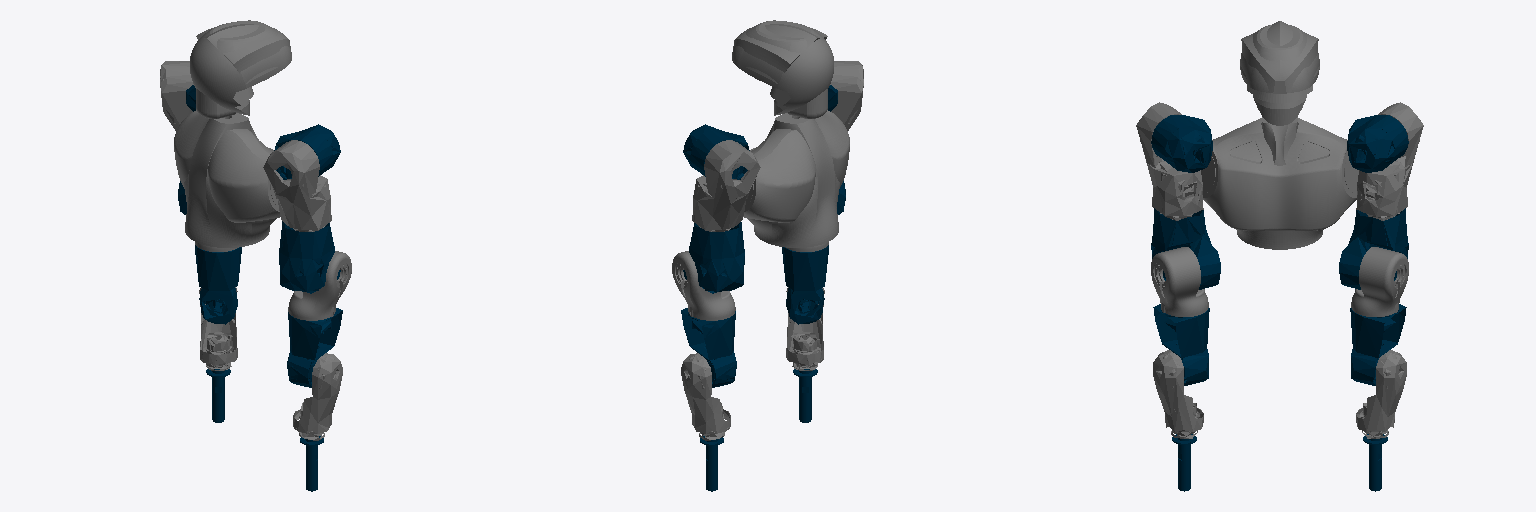
--- Render facts (derived) ---
3 views of the same robot in one strip: view 1: azimuth 30°, elevation 25°; view 2: azimuth 150°, elevation 25°; view 3: azimuth 270°, elevation 25° (orthographic).
Robot: centauro — 17 links, 16 joints (15 revolute, 1 fixed); root link world; default pose: every joint at zero.
Visible links, largest first — view 1: torso_2, arm2_2, arm2_3, arm1_5, arm2_5, arm2_6, arm2_4, arm1_6, arm1_2, arm2_1, arm1_7, arm2_7; view 2: torso_2, arm1_2, arm1_3, arm2_5, arm1_5, arm1_6, arm1_4, arm2_6, arm2_2, arm1_1, arm2_7, arm1_7; view 3: torso_2, arm1_2, arm2_2, arm1_4, arm2_4, arm1_1, arm2_1, arm1_3, arm2_3, arm1_5, arm2_5, arm1_6 (+3 smaller).
Boxes of the visible links, x1,y1,x2,y2 form: torso_2: (174,20,291,247); arm2_2: (263,140,331,231); arm2_3: (279,221,340,293); arm1_5: (195,245,241,324); arm2_5: (287,308,342,387); arm2_6: (293,353,342,440); arm2_4: (288,251,351,320); arm1_6: (199,287,237,370); arm1_2: (160,61,193,130); arm2_1: (274,124,340,179); arm1_7: (206,369,230,422); arm2_7: (300,436,323,491); torso_2: (732,20,849,247); arm1_2: (692,140,760,231); arm1_3: (683,222,744,293); arm2_5: (782,245,828,324); arm1_5: (681,308,736,387); arm1_6: (681,353,730,440); arm1_4: (672,251,735,320); arm2_6: (786,287,824,370); arm2_2: (830,61,863,130); arm1_1: (683,124,749,179); arm2_7: (793,369,817,422); arm1_7: (700,436,723,491); torso_2: (1201,21,1358,249); arm1_2: (1356,102,1423,220); arm2_2: (1136,102,1203,220); arm1_4: (1351,247,1408,316); arm2_4: (1151,247,1208,316); arm1_1: (1347,115,1408,172); arm2_1: (1151,115,1212,172); arm1_3: (1339,208,1408,289); arm2_3: (1151,208,1220,289); arm1_5: (1350,304,1406,385); arm2_5: (1153,304,1209,385); arm1_6: (1356,350,1406,438).
Bounding box of the posed robot: 0.2803 × 0.6319 × 1.08 m (x, y, z).
15 mesh visuals loaded from 8 distinct referenced files (8 binary STL).

The robot description file, URDF, robot "centauro":
<?xml version="1.0" ?>
<!-- =================================================================================== -->
<!-- |    This document was autogenerated by xacro from centauro.urdf.xacro            | -->
<!-- |    EDITING THIS FILE BY HAND IS NOT RECOMMENDED                                 | -->
<!-- =================================================================================== -->
<robot name="centauro" xmlns:xacro="http://www.ros.org/wiki/xacro">
  <!-- config -->
  <!--
<xacro:property name="ARMS" value="true"/>
<xacro:property name="TORSO" value="true" />
<xacro:property name="ARM_ACTUATORS" value="true"/> 
<xacro:property name="LEGS" value="true"/>
<xacro:property name="LEG_ACTUATORS" value="true"/>

<xacro:property name="TORSO_ACTUATORS" value="true"/>
<xacro:property name="WHEELS" value="true"/>
<xacro:property name="WHEELS_ACTUATORS" value="true"/>-->
  <!-- /config -->
  <!-- constants -->
  <!-- /constants -->
  <!-- other files -->
  <gazebo>
    <plugin filename="libgazebo_ros_control.so" name="gazebo_ros_control">
      <robotNamespace>/centauro</robotNamespace>
      <robotSimType>gazebo_ros_control/DefaultRobotHWSim</robotSimType>
    </plugin>
  </gazebo>
  <gazebo reference="knee_1">
    <sensor name="foot_contact_sensor_1" type="contact">
      <always_on>true</always_on>
      <update_rate>1000.0</update_rate>
      <contact>
        <collision>knee_1_collision_1</collision>
      </contact>
      <plugin filename="libgazebo_ros_bumper.so" name="bumper_1">
        <bumperTopicName>raw_contacts_foot_1</bumperTopicName>
        <frameName>knee_1</frameName>
      </plugin>
    </sensor>
  </gazebo>
  <gazebo reference="knee_2">
    <sensor name="foot_contact_sensor_2" type="contact">
      <always_on>true</always_on>
      <update_rate>1000.0</update_rate>
      <contact>
        <collision>knee_2_collision_1</collision>
      </contact>
      <plugin filename="libgazebo_ros_bumper.so" name="bumper_2">
        <bumperTopicName>raw_contacts_foot_2</bumperTopicName>
        <frameName>knee_2</frameName>
      </plugin>
    </sensor>
  </gazebo>
  <gazebo reference="knee_3">
    <sensor name="foot_contact_sensor_3" type="contact">
      <always_on>true</always_on>
      <update_rate>1000.0</update_rate>
      <contact>
        <collision>knee_3_collision_1</collision>
      </contact>
      <plugin filename="libgazebo_ros_bumper.so" name="bumper_3">
        <bumperTopicName>raw_contacts_foot_3</bumperTopicName>
        <frameName>knee_3</frameName>
      </plugin>
    </sensor>
  </gazebo>
  <gazebo reference="knee_4">
    <sensor name="foot_contact_sensor_4" type="contact">
      <always_on>true</always_on>
      <update_rate>1000.0</update_rate>
      <contact>
        <collision>knee_4_collision_1</collision>
      </contact>
      <plugin filename="libgazebo_ros_bumper.so" name="bumper_4">
        <bumperTopicName>raw_contacts_foot_4</bumperTopicName>
        <frameName>knee_4</frameName>
      </plugin>
    </sensor>
  </gazebo>
  <!-- The ft_sensor plugin -->
  <!--<gazebo>
    <plugin name="ft_sensor" filename="libgazebo_ros_ft_sensor.so">
        <updateRate>100.0</updateRate>
        <topicName>ft_sensor_1</topicName>
        <jointName>foot_fixed_joint_1</jointName>
    </plugin>
</gazebo>-->
  <!-- The ft_sensor plugin -->
  <!--<gazebo>
    <plugin name="ft_sensor" filename="libgazebo_ros_ft_sensor.so">
        <updateRate>100.0</updateRate>
        <topicName>ft_sensor_2</topicName>
        <jointName>foot_fixed_joint_2</jointName>
    </plugin>
</gazebo>-->
  <!-- The ft_sensor plugin -->
  <!--<gazebo>
    <plugin name="ft_sensor" filename="libgazebo_ros_ft_sensor.so">
        <updateRate>100.0</updateRate>
        <topicName>ft_sensor_3</topicName>
        <jointName>foot_fixed_joint_3</jointName>
    </plugin>
</gazebo>-->
  <!-- The ft_sensor plugin -->
  <!--<gazebo>
    <plugin name="ft_sensor" filename="libgazebo_ros_ft_sensor.so">
        <updateRate>100.0</updateRate>
        <topicName>ft_sensor_4</topicName>
        <jointName>foot_fixed_joint_4</jointName>
    </plugin>
</gazebo>-->
  <gazebo reference="base_link">
    <material>Gazebo/Red</material>
  </gazebo>
  <gazebo reference="pelvis">
    <material>Gazebo/Blue</material>
    <mu1>1</mu1>
    <mu2>1</mu2>
  </gazebo>
  <gazebo reference="torso_1">
    <mu1>1</mu1>
    <mu2>1</mu2>
    <material>Gazebo/Grey</material>
  </gazebo>
  <gazebo reference="torso_2">
    <material>Gazebo/Blue</material>
    <mu1>1</mu1>
    <mu2>1</mu2>
  </gazebo>
  <gazebo reference="hip1_1">
    <material>Gazebo/Grey</material>
    <mu1>1</mu1>
    <mu2>1</mu2>
  </gazebo>
  <gazebo reference="hip1_2">
    <material>Gazebo/Grey</material>
    <mu1>1</mu1>
    <mu2>1</mu2>
  </gazebo>
  <gazebo reference="hip1_3">
    <material>Gazebo/Grey</material>
    <mu1>1</mu1>
    <mu2>1</mu2>
  </gazebo>
  <gazebo reference="hip1_4">
    <material>Gazebo/Grey</material>
    <mu1>1</mu1>
    <mu2>1</mu2>
  </gazebo>
  <gazebo reference="hip2_1">
    <material>Gazebo/Blue</material>
    <mu1>1</mu1>
    <mu2>1</mu2>
  </gazebo>
  <gazebo reference="hip2_2">
    <material>Gazebo/Blue</material>
    <mu1>1</mu1>
    <mu2>1</mu2>
  </gazebo>
  <gazebo reference="hip2_3">
    <material>Gazebo/Blue</material>
    <mu1>1</mu1>
    <mu2>1</mu2>
  </gazebo>
  <gazebo reference="hip2_4">
    <material>Gazebo/Blue</material>
    <mu1>1</mu1>
    <mu2>1</mu2>
  </gazebo>
  <gazebo reference="knee_1">
    <material>Gazebo/Grey</material>
    <mu1>10</mu1>
    <mu2>10</mu2>
  </gazebo>
  <gazebo reference="knee_2">
    <material>Gazebo/Grey</material>
    <mu1>10</mu1>
    <mu2>10</mu2>
  </gazebo>
  <gazebo reference="knee_3">
    <material>Gazebo/Grey</material>
    <mu1>10</mu1>
    <mu2>10</mu2>
  </gazebo>
  <gazebo reference="knee_4">
    <material>Gazebo/Grey</material>
    <mu1>10</mu1>
    <mu2>10</mu2>
  </gazebo>
  <gazebo reference="arm1_1">
    <material>Gazebo/Blue</material>
    <mu1>0</mu1>
    <mu2>0</mu2>
  </gazebo>
  <gazebo reference="arm2_1">
    <material>Gazebo/Blue</material>
    <mu1>0</mu1>
    <mu2>0</mu2>
  </gazebo>
  <gazebo reference="arm1_2">
    <material>Gazebo/Grey</material>
    <mu1>0</mu1>
    <mu2>0</mu2>
  </gazebo>
  <gazebo reference="arm2_2">
    <material>Gazebo/Grey</material>
    <mu1>0</mu1>
    <mu2>0</mu2>
  </gazebo>
  <gazebo reference="arm1_3">
    <material>Gazebo/Blue</material>
    <mu1>0</mu1>
    <mu2>0</mu2>
  </gazebo>
  <gazebo reference="arm2_3">
    <material>Gazebo/Blue</material>
    <mu1>0</mu1>
    <mu2>0</mu2>
  </gazebo>
  <gazebo reference="arm1_4">
    <material>Gazebo/Grey</material>
    <mu1>0</mu1>
    <mu2>0</mu2>
  </gazebo>
  <gazebo reference="arm2_4">
    <material>Gazebo/Grey</material>
    <mu1>0</mu1>
    <mu2>0</mu2>
  </gazebo>
  <gazebo reference="arm1_5">
    <material>Gazebo/Blue</material>
    <mu1>0</mu1>
    <mu2>0</mu2>
  </gazebo>
  <gazebo reference="arm2_5">
    <material>Gazebo/Blue</material>
    <mu1>0</mu1>
    <mu2>0</mu2>
  </gazebo>
  <gazebo reference="arm1_6">
    <material>Gazebo/Grey</material>
    <mu1>0</mu1>
    <mu2>0</mu2>
  </gazebo>
  <gazebo reference="arm2_6">
    <material>Gazebo/Grey</material>
    <mu1>0</mu1>
    <mu2>0</mu2>
  </gazebo>
  <gazebo reference="arm1_7">
    <material>Gazebo/Blue</material>
    <mu1>0</mu1>
    <mu2>0</mu2>
  </gazebo>
  <gazebo reference="arm2_7">
    <material>Gazebo/Blue</material>
    <mu1>0</mu1>
    <mu2>0</mu2>
  </gazebo>
  <gazebo reference="wheel_hip_1">
    <material>Gazebo/Black</material>
  </gazebo>
  <gazebo reference="wheel_hip_2">
    <material>Gazebo/Black</material>
  </gazebo>
  <gazebo reference="wheel_hip_3">
    <material>Gazebo/Black</material>
  </gazebo>
  <gazebo reference="wheel_hip_4">
    <material>Gazebo/Black</material>
  </gazebo>
  <gazebo reference="wheel_knee_1">
    <material>Gazebo/Black</material>
  </gazebo>
  <gazebo reference="wheel_knee_2">
    <material>Gazebo/Black</material>
  </gazebo>
  <gazebo reference="wheel_knee_3">
    <material>Gazebo/Black</material>
  </gazebo>
  <gazebo reference="wheel_knee_4">
    <material>Gazebo/Black</material>
  </gazebo>
  <!-- General Data -->
  <!-- Center of Mass -->
  <!-- Inertia -->
  <!-- Mass -->
  <!-- Center of Mass -->
  <!-- Inertia -->
  <!-- Mass -->
  <!-- Center of Mass -->
  <!-- Inertia -->
  <!-- Mass -->
  <!-- Center of Mass -->
  <!-- Inertia -->
  <!-- Mass -->
  <!-- Center of Mass -->
  <!-- Inertia -->
  <!-- Mass -->
  <!-- Center of Mass -->
  <!-- Inertia -->
  <!-- Mass -->
  <!-- Center of Mass -->
  <!-- Inertia -->
  <!-- Mass -->
  <!-- Center of Mass -->
  <!-- Inertia -->
  <!-- Mass -->
  <!-- Center of Mass -->
  <!-- Inertia -->
  <!-- Mass -->
  <!-- Center of Mass -->
  <!-- Inertia -->
  <!-- Mass -->
  <!-- Center of Mass -->
  <!-- Inertia -->
  <!-- Mass -->
  <!-- Center of Mass -->
  <!-- Inertia -->
  <!-- Mass -->
  <!-- Center of Mass -->
  <!-- Inertia -->
  <!-- Mass -->
  <material name="grey">
    <color rgba="0.5 0.5 0.5 1"/>
  </material>
  <material name="dark_grey">
    <color rgba="0.3 0.3 0.3 1"/>
  </material>
  <material name="blue">
    <color rgba="0.0 0.2 0.3 1"/>
  </material>
  <material name="red">
    <color rgba="0.5 0.1 0.2 1"/>
  </material>
  <material name="black">
    <color rgba="0.0 0.0 0.0 1"/>
  </material>
  <!-- macro arms -->
  <!-- /macro arms -->
  <!-- /other files -->
  <!-- reference -->
  <link name="world"/>
  <link name="pelvis">
    <inertial>
      <origin xyz="-0.0704 0.0 -0.0416"/>
      <!-- TODO -->
      <mass value="25.0"/>
      <!-- org: 25 -->
      <inertia ixx="0.242311" ixy="0.0" ixz="-0.233584" iyy="1.338707" iyz="0.0" izz="1.369479"/>
      <!-- TODO -->
    </inertial>
    <!--	<collision>
		<origin xyz="0 0 0"/>
		<geometry>
			<box size="0.70 0.40 0.20"/>
		</geometry>
	</collision> -->
  </link>
  <!-- /reference  -->
  <joint name="reference" type="fixed">
    <origin xyz="0 0 0.85"/>
    <parent link="world"/>
    <child link="pelvis"/>
  </joint>
  <!-- torso -->
  <!-- torso links -->
  <link name="torso_2">
    <inertial>
      <origin xyz="0.0 0.0 0.183333"/>
      <mass value="3.0"/>
      <!-- mass  7: torso_1 (2) + torso_2 (5), head un_modelled -->
      <inertia ixx="0.094335" ixy="8.5e-05" ixz="-3.1e-05" iyy="0.029946" iyz="1.7e-05" izz="0.068486"/>
      <!-- <inertia ixx="0.01" ixy="0.01" ixz="0.01" iyy="0.01" iyz="0.01" izz="0.01"/> -->
    </inertial>
    <visual>
      <origin rpy="0.0 0.0 0.0" xyz="0.0 0 0.0"/>
      <geometry>
        <mesh filename="package://centauro/centauro_urdf/meshes/link1.stl" scale="0.001 0.001 0.001"/>
      </geometry>
      <material name="grey"/>
    </visual>
    <collision>
      <origin rpy="0.0 0.0 0.0" xyz="0.0 0 0.0"/>
      <geometry>
        <mesh filename="package://centauro/centauro_urdf/meshes/convex_hull/link1.stl" scale="0.001 0.001 0.001"/>
      </geometry>
      <material name="grey"/>
    </collision>
  </link>
  <!-- /torso links -->
  <!-- torso joints -->
  <joint name="torso_yaw" type="revolute">
    <parent link="pelvis"/>
    <child link="torso_2"/>
    <origin xyz="0.30 0 0"/>
    <axis xyz="0 0 1"/>
    <limit effort="350" lower="-2.618" upper="2.618" velocity="6.5"/>
    <!-- TODO -->
  </joint>
  <!-- /torso joints -->
  <!-- torso actuators -->
  <transmission name="t_torso_yaw">
    <type> transmission_interface/SimpleTransmission</type>
    <joint name="torso_yaw">
      <hardwareInterface>EffortJointInterface</hardwareInterface>
    </joint>
    <actuator name="motor_torso_yaw">
      <hardwareInterface>EffortJointInterface</hardwareInterface>
      <machanicalReduction>1</machanicalReduction>
    </actuator>
    <robotNamespace>/centauro</robotNamespace>
  </transmission>
  <!-- /torso actuators -->
  <!-- arms -->
  <!-- LINKS -->
  <!-- shoulder yaw-roll-->
  <link name="arm1_1">
    <inertial>
      <origin xyz="0.0 0.064706 0.0"/>
      <mass value="1.7"/>
      <!-- OK: 1.7 -->
      <inertia ixx="0.002332" ixy="0.0" ixz="0.0" iyy="0.001345" iyz="-0.0" izz="0.002332"/>
    </inertial>
    <visual>
      <origin rpy="0.0 0.0 0.0" xyz="0.0 0.0 0.0"/>
      <geometry>
        <mesh filename="package://centauro/centauro_urdf/meshes/link2.stl" scale="0.001 -0.001 0.001"/>
      </geometry>
      <material name="blue"/>
    </visual>
    <collision>
      <origin rpy="0.0 0.0 0.0" xyz="0.0 0.0 0.0"/>
      <geometry>
        <mesh filename="package://centauro/centauro_urdf/meshes/convex_hull/link2.stl" scale="0.001 -0.001 0.001"/>
      </geometry>
      <material name="blue"/>
    </collision>
  </link>
  <!-- shoulder yaw-roll-->
  <!-- shoulder roll-pitch-->
  <link name="arm1_2">
    <inertial>
      <origin xyz="0.0 0.0 -0.125"/>
      <mass value="2.0"/>
      <!-- OK: 2 -->
      <inertia ixx="0.005879" ixy="0.0" ixz="0.0" iyy="0.005879" iyz="0.0" izz="0.001525"/>
    </inertial>
    <visual>
      <origin rpy="0.0 0.0 0.0" xyz="0.0 0.0 0.0"/>
      <geometry>
        <mesh filename="package://centauro/centauro_urdf/meshes/link3.stl" scale="0.001 -0.001 0.001"/>
      </geometry>
      <material name="grey"/>
    </visual>
    <collision>
      <origin rpy="0.0 0.0 0.0" xyz="0.0 0.0 0.0"/>
      <geometry>
        <mesh filename="package://centauro/centauro_urdf/meshes/convex_hull/link3.stl" scale="0.001 -0.001 0.001"/>
      </geometry>
      <material name="grey"/>
    </collision>
  </link>
  <!-- shoulder roll-pitch-->
  <!-- shoulder-elbow -->
  <link name="arm1_3">
    <inertial>
      <origin xyz="0.0 0.0 -0.09375"/>
      <mass value="2.0"/>
      <!-- OK: 2 -->
      <inertia ixx="0.003989" ixy="0.0" ixz="0.0" iyy="0.003884" iyz="-0.0" izz="0.001629"/>
      <!-- TODO -->
    </inertial>
    <visual>
      <origin rpy="0.0 0.0 0.0" xyz="0.0 0.0 0.0"/>
      <geometry>
        <mesh filename="package://centauro/centauro_urdf/meshes/link4.stl" scale="0.001 -0.001 0.001"/>
      </geometry>
      <material name="blue"/>
    </visual>
    <collision>
      <origin rpy="0.0 0.0 0.0" xyz="0.0 0.0 0.0"/>
      <geometry>
        <mesh filename="package://centauro/centauro_urdf/meshes/convex_hull/link4.stl" scale="0.001 -0.001 0.001"/>
      </geometry>
      <material name="blue"/>
    </collision>
  </link>
  <!-- /shoulder-elbow -->
  <!-- elbow yaw-pitch -->
  <link name="arm1_4">
    <inertial>
      <origin xyz="0.0 0.0 -0.09"/>
      <mass value="1.3"/>
      <!-- OK: 1.3 -->
      <inertia ixx="0.002589" ixy="0.0" ixz="0.0" iyy="0.002589" iyz="0.0" izz="0.001105"/>
    </inertial>
    <visual>
      <origin rpy="0.0 0.0 0.0" xyz="0.0 0.0 0.0"/>
      <geometry>
        <mesh filename="package://centauro/centauro_urdf/meshes/link5.stl" scale="0.001 -0.001 0.001"/>
      </geometry>
      <material name="grey"/>
    </visual>
    <collision>
      <origin rpy="0.0 0.0 0.0" xyz="0.0 0.0 0.0"/>
      <geometry>
        <mesh filename="package://centauro/centauro_urdf/meshes/convex_hull/link5.stl" scale="0.001 -0.001 0.001"/>
      </geometry>
      <material name="grey"/>
    </collision>
  </link>
  <!-- /elbow yaw-pitch -->
  <!-- elbow-wrist -->
  <link name="arm1_5">
    <inertial>
      <origin xyz="0.0 0.0 -0.067857"/>
      <mass value="1.4"/>
      <!-- OK: 1.4 -->
      <inertia ixx="0.002073" ixy="0.0" ixz="0.0" iyy="0.001969" iyz="-0.0" izz="0.001269"/>
    </inertial>
    <visual>
      <origin rpy="0.0 0.0 0.0" xyz="0.0 0.0 0.0"/>
      <geometry>
        <mesh filename="package://centauro/centauro_urdf/meshes/link6.stl" scale="0.001 -0.001 0.001"/>
      </geometry>
      <material name="blue"/>
    </visual>
    <collision>
      <origin rpy="0.0 0.0 0.0" xyz="0.0 0.0 0.0"/>
      <geometry>
        <mesh filename="package://centauro/centauro_urdf/meshes/convex_hull/link6.stl" scale="0.001 -0.001 0.001"/>
      </geometry>
      <material name="blue"/>
    </collision>
  </link>
  <!-- /elbow-wrist -->
  <!-- wrist yaw-pitch -->
  <link name="arm1_6">
    <inertial>
      <origin xyz="0.0 0.0 -0.094545"/>
      <mass value="1.1"/>
      <!-- OK: 1.1 -->
      <inertia ixx="0.002301" ixy="0.0" ixz="0.0" iyy="0.002301" iyz="0.0" izz="0.000985"/>
    </inertial>
    <visual>
      <origin rpy="0.0 0.0 0.0" xyz="0.0 0.0 0.0"/>
      <geometry>
        <mesh filename="package://centauro/centauro_urdf/meshes/link7.stl" scale="0.001 -0.001 0.001"/>
      </geometry>
      <material name="grey"/>
    </visual>
    <collision>
      <origin rpy="0.0 0.0 0.0" xyz="0.0 0.0 0.0"/>
      <geometry>
        <mesh filename="package://centauro/centauro_urdf/meshes/convex_hull/link7.stl" scale="0.001 -0.001 0.001"/>
      </geometry>
      <material name="grey"/>
    </collision>
  </link>
  <!-- /wrist yaw-pitch -->
  <!-- hand -->
  <link name="arm1_7">
    <inertial>
      <origin xyz="0.0 0.0 -0.075"/>
      <mass value="1.7"/>
      <!-- OK: 1.7 -->
      <inertia ixx="0.001303" ixy="0.0" ixz="0.0" iyy="0.001303" iyz="0.0" izz="0.00102"/>
    </inertial>
    <visual>
      <origin rpy="0.0 0.0 0.0" xyz="0.0 0.0 0.0"/>
      <geometry>
        <mesh filename="package://centauro/centauro_urdf/meshes/link8.stl" scale="0.001 -0.001 0.001"/>
      </geometry>
      <material name="blue"/>
    </visual>
    <collision>
      <origin rpy="0.0 0.0 0.0" xyz="0.0 0.0 0.0"/>
      <geometry>
        <mesh filename="package://centauro/centauro_urdf/meshes/convex_hull/link8.stl" scale="0.001 -0.001 0.001"/>
      </geometry>
      <material name="blue"/>
    </collision>
  </link>
  <!--	<link name="mass${arm_num}_body">
	<inertial>
		<origin xyz="0 0 0"/> -->
  <!--		<mass value="10"/> -->
  <!-- OK: 1.7 -->
  <!--		<inertia ixx="0.001" ixy="0.00" ixz="0.00" iyy="0.001" iyz="0.00" izz="0.001"/> 
	</inertial>
	
	<visual>
		<origin xyz="0.0 0.0 0"/>
		<geometry>
			<box size="0.10 0.10 0.10"/>-->
  <!-- OK -->
  <!--		</geometry>
		<material name="red"/>
	</visual>

	</link> -->
  <!-- /hand -->
  <!-- /LINKS -->
  <!-- JOINTS -->
  <!-- shoulder yaw -->
  <joint name="j_arm1_1" type="revolute">
    <parent link="torso_2"/>
    <child link="arm1_1"/>
    <origin rpy="0.0 0 -0.5236026689864071" xyz="0.04576 0.169137 0.190626"/>
    <axis xyz="0 0.984807753012 0.173648177667"/>
    <limit effort="350" lower="-3.665" upper="1.920" velocity="6.5"/>
    <!-- TODO -->
  </joint>
  <!-- /shoulder yaw -->
  <!-- shoulder roll -->
  <joint name="j_arm1_2" type="revolute">
    <parent link="arm1_1"/>
    <child link="arm1_2"/>
    <origin xyz="-0.09115 0.06106 0.010766"/>
    <axis xyz="-1 0 0"/>
    <limit effort="350" lower="-3.49" upper="0" velocity="6.5"/>
    <!-- TODO -->
  </joint>
  <!-- /shoulder roll -->
  <!-- shoulder pitch-->
  <joint name="j_arm1_3" type="revolute">
    <parent link="arm1_2"/>
    <child link="arm1_3"/>
    <origin xyz="0.09115 0 -0.21915"/>
    <axis xyz="0 0 -1"/>
    <limit effort="350" lower="-2.618" upper="2.618" velocity="6.5"/>
    <!-- TODO -->
  </joint>
  <!-- /shoulder pitch -->
  <!-- elbow yaw -->
  <joint name="j_arm1_4" type="revolute">
    <parent link="arm1_3"/>
    <child link="arm1_4"/>
    <origin xyz="0.040 0.05615 -0.074"/>
    <axis xyz="0 1 0"/>
    <limit effort="350" lower="-2.530" upper="0.349" velocity="6.5"/>
    <!-- TODO -->
  </joint>
  <!-- /elbow yaw -->
  <!-- elbow pitch-->
  <joint name="j_arm1_5" type="revolute">
    <parent link="arm1_4"/>
    <child link="arm1_5"/>
    <origin xyz="-0.015 -0.05615 -0.061"/>
    <axis xyz="0 0 -1"/>
    <limit effort="350" lower="-2.618" upper="2.618" velocity="6.5"/>
    <!-- TODO -->
  </joint>
  <!-- /elbow pitch-->
  <!-- wrist yaw-->
  <joint name="j_arm1_6" type="revolute">
    <parent link="arm1_5"/>
    <child link="arm1_6"/>
    <origin xyz="0 0.049 -0.180"/>
    <axis xyz="0 1 0"/>
    <limit effort="350" lower="-1.570" upper="1.570" velocity="6.5"/>
    <!-- TODO -->
  </joint>
  <!-- /wrist yaw-->
  <!-- wrist pitch-->
  <joint name="j_arm1_7" type="revolute">
    <parent link="arm1_6"/>
    <child link="arm1_7"/>
    <origin xyz="0 -0.049 -0.169"/>
    <axis xyz="0 0 -1"/>
    <limit effort="350" lower="-2.618" upper="2.618" velocity="6.5"/>
    <!-- TODO -->
  </joint>
  <!--	<joint name="mass${arm_num}" type="fixed">
		<parent link="arm${arm_num}_7"/>
		<child link="mass${arm_num}_body"/>
		<origin xyz="0 0 -0.15"/> 
	</joint> -->
  <!-- /wrist pitch-->
  <!-- actuators -->
  <transmission name="t_j_arm1_1">
    <type> transmission_interface/SimpleTransmission</type>
    <joint name="j_arm1_1">
      <hardwareInterface>EffortJointInterface</hardwareInterface>
    </joint>
    <actuator name="motor_j_arm1_1">
      <hardwareInterface>EffortJointInterface</hardwareInterface>
      <machanicalReduction>1</machanicalReduction>
    </actuator>
    <robotNamespace>/centauro</robotNamespace>
  </transmission>
  <transmission name="t_j_arm1_2">
    <type> transmission_interface/SimpleTransmission</type>
    <joint name="j_arm1_2">
      <hardwareInterface>EffortJointInterface</hardwareInterface>
    </joint>
    <actuator name="motor_j_arm1_2">
      <hardwareInterface>EffortJointInterface</hardwareInterface>
      <machanicalReduction>1</machanicalReduction>
    </actuator>
    <robotNamespace>/centauro</robotNamespace>
  </transmission>
  <transmission name="t_j_arm1_3">
    <type> transmission_interface/SimpleTransmission</type>
    <joint name="j_arm1_3">
      <hardwareInterface>EffortJointInterface</hardwareInterface>
    </joint>
    <actuator name="motor_j_arm1_3">
      <hardwareInterface>EffortJointInterface</hardwareInterface>
      <machanicalReduction>1</machanicalReduction>
    </actuator>
    <robotNamespace>/centauro</robotNamespace>
  </transmission>
  <transmission name="t_j_arm1_4">
    <type> transmission_interface/SimpleTransmission</type>
    <joint name="j_arm1_4">
      <hardwareInterface>EffortJointInterface</hardwareInterface>
    </joint>
    <actuator name="motor_j_arm1_4">
      <hardwareInterface>EffortJointInterface</hardwareInterface>
      <machanicalReduction>1</machanicalReduction>
    </actuator>
    <robotNamespace>/centauro</robotNamespace>
  </transmission>
  <transmission name="t_j_arm1_5">
    <type> transmission_interface/SimpleTransmission</type>
    <joint name="j_arm1_5">
      <hardwareInterface>EffortJointInterface</hardwareInterface>
    </joint>
    <actuator name="motor_j_arm1_5">
      <hardwareInterface>EffortJointInterface</hardwareInterface>
      <machanicalReduction>1</machanicalReduction>
    </actuator>
    <robotNamespace>/centauro</robotNamespace>
  </transmission>
  <transmission name="t_j_arm1_6">
    <type> transmission_interface/SimpleTransmission</type>
    <joint name="j_arm1_6">
      <hardwareInterface>EffortJointInterface</hardwareInterface>
    </joint>
    <actuator name="motor_j_arm1_6">
      <hardwareInterface>EffortJointInterface</hardwareInterface>
      <machanicalReduction>1</machanicalReduction>
    </actuator>
    <robotNamespace>/centauro</robotNamespace>
  </transmission>
  <transmission name="t_j_arm1_7">
    <type> transmission_interface/SimpleTransmission</type>
    <joint name="j_arm1_7">
      <hardwareInterface>EffortJointInterface</hardwareInterface>
    </joint>
    <actuator name="motor_j_arm1_7">
      <hardwareInterface>EffortJointInterface</hardwareInterface>
      <machanicalReduction>1</machanicalReduction>
    </actuator>
    <robotNamespace>/centauro</robotNamespace>
  </transmission>
  <!-- /actuators -->
  <!-- LINKS -->
  <!-- shoulder yaw-roll-->
  <link name="arm2_1">
    <inertial>
      <origin xyz="0.0 -0.064706 0.0"/>
      <mass value="1.7"/>
      <!-- OK: 1.7 -->
      <inertia ixx="0.002332" ixy="0.0" ixz="0.0" iyy="0.001345" iyz="-0.0" izz="0.002332"/>
    </inertial>
    <visual>
      <origin rpy="0.0 0.0 0.0" xyz="0.0 0.0 0.0"/>
      <geometry>
        <mesh filename="package://centauro/centauro_urdf/meshes/link2.stl" scale="0.001 0.001 0.001"/>
      </geometry>
      <material name="blue"/>
    </visual>
    <collision>
      <origin rpy="0.0 0.0 0.0" xyz="0.0 0.0 0.0"/>
      <geometry>
        <mesh filename="package://centauro/centauro_urdf/meshes/convex_hull/link2.stl" scale="0.001 0.001 0.001"/>
      </geometry>
      <material name="blue"/>
    </collision>
  </link>
  <!-- shoulder yaw-roll-->
  <!-- shoulder roll-pitch-->
  <link name="arm2_2">
    <inertial>
      <origin xyz="0.0 -0.0 -0.125"/>
      <mass value="2.0"/>
      <!-- OK: 2 -->
      <inertia ixx="0.005879" ixy="0.0" ixz="0.0" iyy="0.005879" iyz="0.0" izz="0.001525"/>
    </inertial>
    <visual>
      <origin rpy="0.0 0.0 0.0" xyz="0.0 0.0 0.0"/>
      <geometry>
        <mesh filename="package://centauro/centauro_urdf/meshes/link3.stl" scale="0.001 0.001 0.001"/>
      </geometry>
      <material name="grey"/>
    </visual>
    <collision>
      <origin rpy="0.0 0.0 0.0" xyz="0.0 0.0 0.0"/>
      <geometry>
        <mesh filename="package://centauro/centauro_urdf/meshes/convex_hull/link3.stl" scale="0.001 0.001 0.001"/>
      </geometry>
      <material name="grey"/>
    </collision>
  </link>
  <!-- shoulder roll-pitch-->
  <!-- shoulder-elbow -->
  <link name="arm2_3">
    <inertial>
      <origin xyz="0.0 -0.0 -0.09375"/>
      <mass value="2.0"/>
      <!-- OK: 2 -->
      <inertia ixx="0.003989" ixy="0.0" ixz="0.0" iyy="0.003884" iyz="-0.0" izz="0.001629"/>
      <!-- TODO -->
    </inertial>
    <visual>
      <origin rpy="0.0 0.0 0.0" xyz="0.0 0.0 0.0"/>
      <geometry>
        <mesh filename="package://centauro/centauro_urdf/meshes/link4.stl" scale="0.001 0.001 0.001"/>
      </geometry>
      <material name="blue"/>
    </visual>
    <collision>
      <origin rpy="0.0 0.0 0.0" xyz="0.0 0.0 0.0"/>
      <geometry>
        <mesh filename="package://centauro/centauro_urdf/meshes/convex_hull/link4.stl" scale="0.001 0.001 0.001"/>
      </geometry>
      <material name="blue"/>
    </collision>
  </link>
  <!-- /shoulder-elbow -->
  <!-- elbow yaw-pitch -->
  <link name="arm2_4">
    <inertial>
      <origin xyz="0.0 -0.0 -0.09"/>
      <mass value="1.3"/>
      <!-- OK: 1.3 -->
      <inertia ixx="0.002589" ixy="0.0" ixz="0.0" iyy="0.002589" iyz="0.0" izz="0.001105"/>
    </inertial>
    <visual>
      <origin rpy="0.0 0.0 0.0" xyz="0.0 0.0 0.0"/>
      <geometry>
        <mesh filename="package://centauro/centauro_urdf/meshes/link5.stl" scale="0.001 0.001 0.001"/>
      </geometry>
      <material name="grey"/>
    </visual>
    <collision>
      <origin rpy="0.0 0.0 0.0" xyz="0.0 0.0 0.0"/>
      <geometry>
        <mesh filename="package://centauro/centauro_urdf/meshes/convex_hull/link5.stl" scale="0.001 0.001 0.001"/>
      </geometry>
      <material name="grey"/>
    </collision>
  </link>
  <!-- /elbow yaw-pitch -->
  <!-- elbow-wrist -->
  <link name="arm2_5">
    <inertial>
      <origin xyz="0.0 0.0 -0.067857"/>
      <mass value="1.4"/>
      <!-- OK: 1.4 -->
      <inertia ixx="0.002073" ixy="0.0" ixz="0.0" iyy="0.001969" iyz="-0.0" izz="0.001269"/>
    </inertial>
    <visual>
      <origin rpy="0.0 0.0 0.0" xyz="0.0 0.0 0.0"/>
      <geometry>
        <mesh filename="package://centauro/centauro_urdf/meshes/link6.stl" scale="0.001 0.001 0.001"/>
      </geometry>
      <material name="blue"/>
    </visual>
    <collision>
      <origin rpy="0.0 0.0 0.0" xyz="0.0 0.0 0.0"/>
      <geometry>
        <mesh filename="package://centauro/centauro_urdf/meshes/convex_hull/link6.stl" scale="0.001 0.001 0.001"/>
      </geometry>
      <material name="blue"/>
    </collision>
  </link>
  <!-- /elbow-wrist -->
  <!-- wrist yaw-pitch -->
  <link name="arm2_6">
    <inertial>
      <origin xyz="0.0 0.0 -0.094545"/>
      <mass value="1.1"/>
      <!-- OK: 1.1 -->
      <inertia ixx="0.002301" ixy="0.0" ixz="0.0" iyy="0.002301" iyz="0.0" izz="0.000985"/>
    </inertial>
    <visual>
      <origin rpy="0.0 0.0 0.0" xyz="0.0 0.0 0.0"/>
      <geometry>
        <mesh filename="package://centauro/centauro_urdf/meshes/link7.stl" scale="0.001 0.001 0.001"/>
      </geometry>
      <material name="grey"/>
    </visual>
    <collision>
      <origin rpy="0.0 0.0 0.0" xyz="0.0 0.0 0.0"/>
      <geometry>
        <mesh filename="package://centauro/centauro_urdf/meshes/convex_hull/link7.stl" scale="0.001 0.001 0.001"/>
      </geometry>
      <material name="grey"/>
    </collision>
  </link>
  <!-- /wrist yaw-pitch -->
  <!-- hand -->
  <link name="arm2_7">
    <inertial>
      <origin xyz="0.0 0.0 -0.075"/>
      <mass value="1.7"/>
      <!-- OK: 1.7 -->
      <inertia ixx="0.001303" ixy="0.0" ixz="0.0" iyy="0.001303" iyz="0.0" izz="0.00102"/>
    </inertial>
    <visual>
      <origin rpy="0.0 0.0 0.0" xyz="0.0 0.0 0.0"/>
      <geometry>
        <mesh filename="package://centauro/centauro_urdf/meshes/link8.stl" scale="0.001 0.001 0.001"/>
      </geometry>
      <material name="blue"/>
    </visual>
    <collision>
      <origin rpy="0.0 0.0 0.0" xyz="0.0 0.0 0.0"/>
      <geometry>
        <mesh filename="package://centauro/centauro_urdf/meshes/convex_hull/link8.stl" scale="0.001 0.001 0.001"/>
      </geometry>
      <material name="blue"/>
    </collision>
  </link>
  <!--	<link name="mass${arm_num}_body">
	<inertial>
		<origin xyz="0 0 0"/> -->
  <!--		<mass value="10"/> -->
  <!-- OK: 1.7 -->
  <!--		<inertia ixx="0.001" ixy="0.00" ixz="0.00" iyy="0.001" iyz="0.00" izz="0.001"/> 
	</inertial>
	
	<visual>
		<origin xyz="0.0 0.0 0"/>
		<geometry>
			<box size="0.10 0.10 0.10"/>-->
  <!-- OK -->
  <!--		</geometry>
		<material name="red"/>
	</visual>

	</link> -->
  <!-- /hand -->
  <!-- /LINKS -->
  <!-- JOINTS -->
  <!-- shoulder yaw -->
  <joint name="j_arm2_1" type="revolute">
    <parent link="torso_2"/>
    <child link="arm2_1"/>
    <origin rpy="0.0 0 0.5236026689864071" xyz="0.0457475 -0.169137 0.190626"/>
    <axis xyz="0 -0.984807753012 0.173648177667"/>
    <limit effort="350" lower="-1.658" upper="3.403" velocity="6.5"/>
  </joint>
  <!-- /shoulder yaw -->
  <!-- shoulder roll -->
  <joint name="j_arm2_2" type="revolute">
    <parent link="arm2_1"/>
    <child link="arm2_2"/>
    <origin xyz="-0.09115 -0.06106 0.010766"/>
    <axis xyz="-1 0 0"/>
    <limit effort="350" lower="0" upper="3.49" velocity="6.5"/>
    <!-- TODO -->
  </joint>
  <!-- /shoulder roll -->
  <!-- shoulder pitch-->
  <joint name="j_arm2_3" type="revolute">
    <parent link="arm2_2"/>
    <child link="arm2_3"/>
    <origin xyz="0.09115 0 -0.21915"/>
    <axis xyz="0 0 -1"/>
    <limit effort="350" lower="-2.618" upper="2.618" velocity="6.5"/>
    <!-- TODO -->
  </joint>
  <!-- /shoulder pitch -->
  <!-- elbow yaw -->
  <joint name="j_arm2_4" type="revolute">
    <parent link="arm2_3"/>
    <child link="arm2_4"/>
    <origin xyz="0.040 -0.05615 -0.074"/>
    <axis xyz="0 -1 0"/>
    <limit effort="350" lower="-0.349" upper="2.530" velocity="6.5"/>
    <!-- TODO -->
  </joint>
  <!-- /elbow yaw -->
  <!-- elbow pitch-->
  <joint name="j_arm2_5" type="revolute">
    <parent link="arm2_4"/>
    <child link="arm2_5"/>
    <origin xyz="-0.015 0.05615 -0.061"/>
    <axis xyz="0 0 -1"/>
    <limit effort="350" lower="-2.618" upper="2.618" velocity="6.5"/>
    <!-- TODO -->
  </joint>
  <!-- /elbow pitch-->
  <!-- wrist yaw-->
  <joint name="j_arm2_6" type="revolute">
    <parent link="arm2_5"/>
    <child link="arm2_6"/>
    <origin xyz="0 -0.049 -0.180"/>
    <axis xyz="0 -1 0"/>
    <limit effort="350" lower="-1.570" upper="1.570" velocity="6.5"/>
    <!-- TODO -->
  </joint>
  <!-- /wrist yaw-->
  <!-- wrist pitch-->
  <joint name="j_arm2_7" type="revolute">
    <parent link="arm2_6"/>
    <child link="arm2_7"/>
    <origin xyz="0 0.049 -0.169"/>
    <axis xyz="0 0 -1"/>
    <limit effort="350" lower="-2.618" upper="2.618" velocity="6.5"/>
    <!-- TODO -->
  </joint>
  <!--	<joint name="mass${arm_num}" type="fixed">
		<parent link="arm${arm_num}_7"/>
		<child link="mass${arm_num}_body"/>
		<origin xyz="0 0 -0.15"/> 
	</joint> -->
  <!-- /wrist pitch-->
  <!-- actuators -->
  <transmission name="t_j_arm2_1">
    <type> transmission_interface/SimpleTransmission</type>
    <joint name="j_arm2_1">
      <hardwareInterface>EffortJointInterface</hardwareInterface>
    </joint>
    <actuator name="motor_j_arm2_1">
      <hardwareInterface>EffortJointInterface</hardwareInterface>
      <machanicalReduction>1</machanicalReduction>
    </actuator>
    <robotNamespace>/centauro</robotNamespace>
  </transmission>
  <transmission name="t_j_arm2_2">
    <type> transmission_interface/SimpleTransmission</type>
    <joint name="j_arm2_2">
      <hardwareInterface>EffortJointInterface</hardwareInterface>
    </joint>
    <actuator name="motor_j_arm2_2">
      <hardwareInterface>EffortJointInterface</hardwareInterface>
      <machanicalReduction>1</machanicalReduction>
    </actuator>
    <robotNamespace>/centauro</robotNamespace>
  </transmission>
  <transmission name="t_j_arm2_3">
    <type> transmission_interface/SimpleTransmission</type>
    <joint name="j_arm2_3">
      <hardwareInterface>EffortJointInterface</hardwareInterface>
    </joint>
    <actuator name="motor_j_arm2_3">
      <hardwareInterface>EffortJointInterface</hardwareInterface>
      <machanicalReduction>1</machanicalReduction>
    </actuator>
    <robotNamespace>/centauro</robotNamespace>
  </transmission>
  <transmission name="t_j_arm2_4">
    <type> transmission_interface/SimpleTransmission</type>
    <joint name="j_arm2_4">
      <hardwareInterface>EffortJointInterface</hardwareInterface>
    </joint>
    <actuator name="motor_j_arm2_4">
      <hardwareInterface>EffortJointInterface</hardwareInterface>
      <machanicalReduction>1</machanicalReduction>
    </actuator>
    <robotNamespace>/centauro</robotNamespace>
  </transmission>
  <transmission name="t_j_arm2_5">
    <type> transmission_interface/SimpleTransmission</type>
    <joint name="j_arm2_5">
      <hardwareInterface>EffortJointInterface</hardwareInterface>
    </joint>
    <actuator name="motor_j_arm2_5">
      <hardwareInterface>EffortJointInterface</hardwareInterface>
      <machanicalReduction>1</machanicalReduction>
    </actuator>
    <robotNamespace>/centauro</robotNamespace>
  </transmission>
  <transmission name="t_j_arm2_6">
    <type> transmission_interface/SimpleTransmission</type>
    <joint name="j_arm2_6">
      <hardwareInterface>EffortJointInterface</hardwareInterface>
    </joint>
    <actuator name="motor_j_arm2_6">
      <hardwareInterface>EffortJointInterface</hardwareInterface>
      <machanicalReduction>1</machanicalReduction>
    </actuator>
    <robotNamespace>/centauro</robotNamespace>
  </transmission>
  <transmission name="t_j_arm2_7">
    <type> transmission_interface/SimpleTransmission</type>
    <joint name="j_arm2_7">
      <hardwareInterface>EffortJointInterface</hardwareInterface>
    </joint>
    <actuator name="motor_j_arm2_7">
      <hardwareInterface>EffortJointInterface</hardwareInterface>
      <machanicalReduction>1</machanicalReduction>
    </actuator>
    <robotNamespace>/centauro</robotNamespace>
  </transmission>
  <!-- /actuators -->
  <!-- /arms -->
  <!-- /torso -->
  <!-- legs -->
  <!-- /legs -->
</robot>
